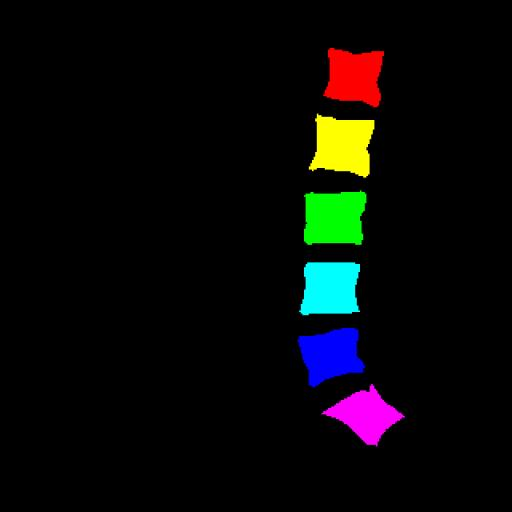L1: (324, 48, 384, 107)
L2: (309, 114, 374, 178)
L3: (304, 192, 366, 245)
L4: (300, 262, 360, 315)
L5: (298, 328, 364, 386)
S1: (322, 385, 404, 446)
